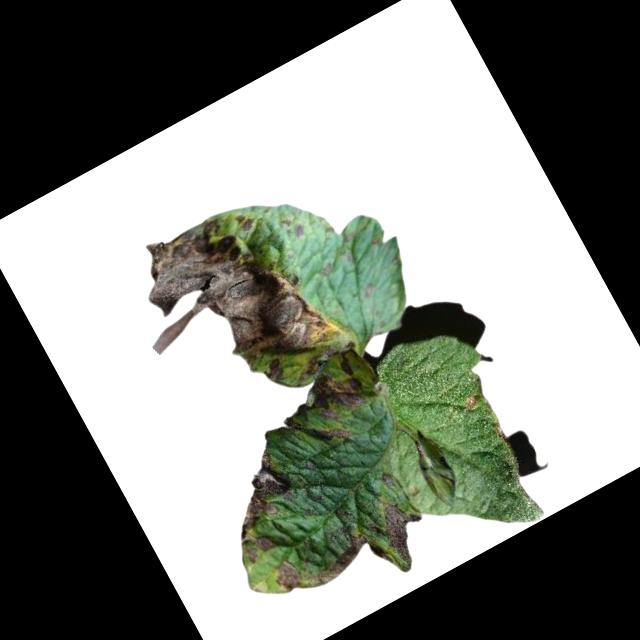Early_blight: (106, 187, 348, 437), (202, 444, 322, 569), (273, 357, 386, 464), (305, 521, 394, 597), (370, 490, 438, 569), (266, 554, 306, 598), (460, 391, 484, 413), (492, 421, 509, 442), (379, 471, 396, 488)
